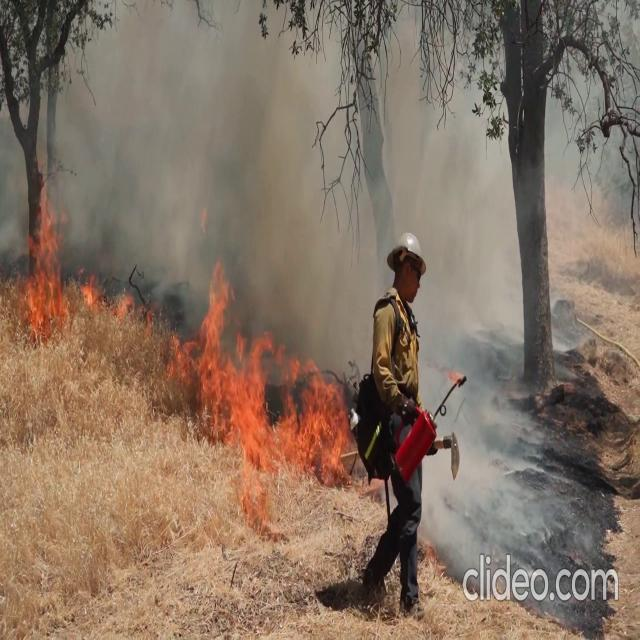Fire: (174, 276, 350, 490), (8, 148, 130, 329), (10, 161, 94, 329), (10, 165, 69, 328)
Smoke: (63, 25, 613, 320)
